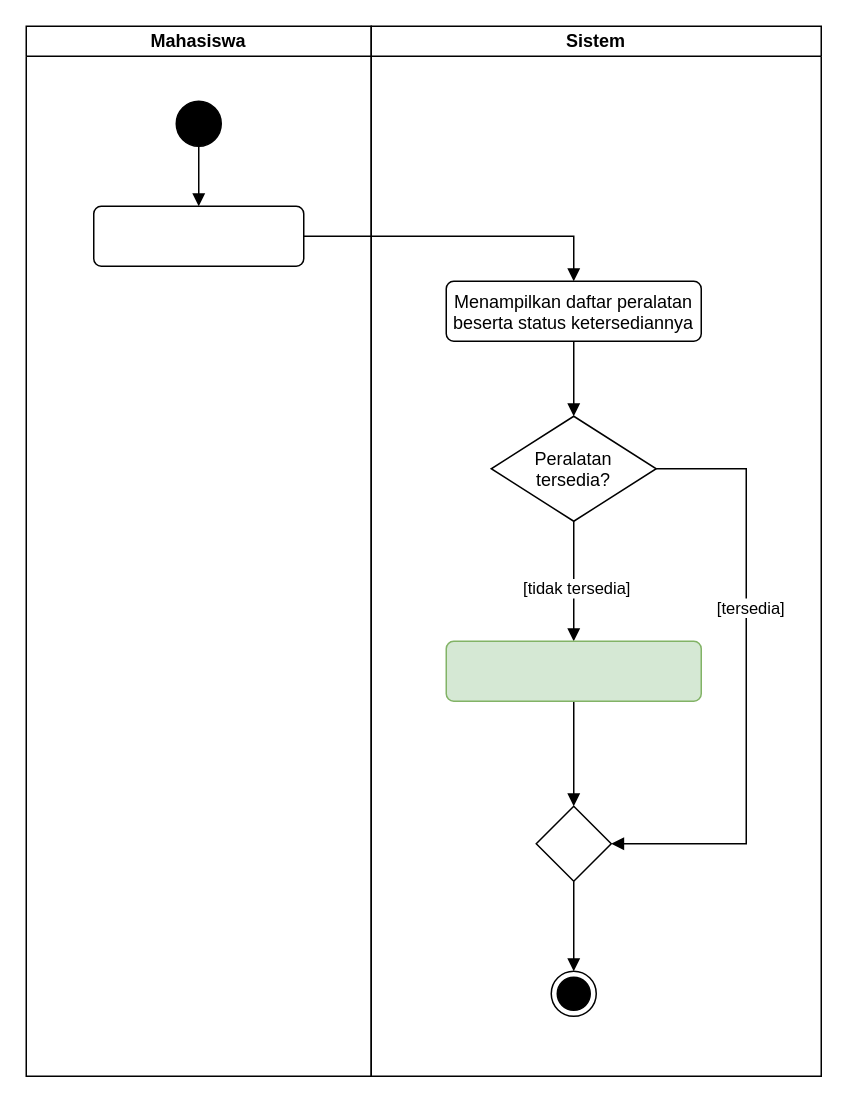
This 848x1103 diagram has some shape labels left out. The centre of each missing label's shape, as x and y in pixels:
Membuka fungsi Lihat Ketersediaan Peralatan: (198,235)
Menampilkan pesan tidak ada peralatan yang tersedia: (573,670)
